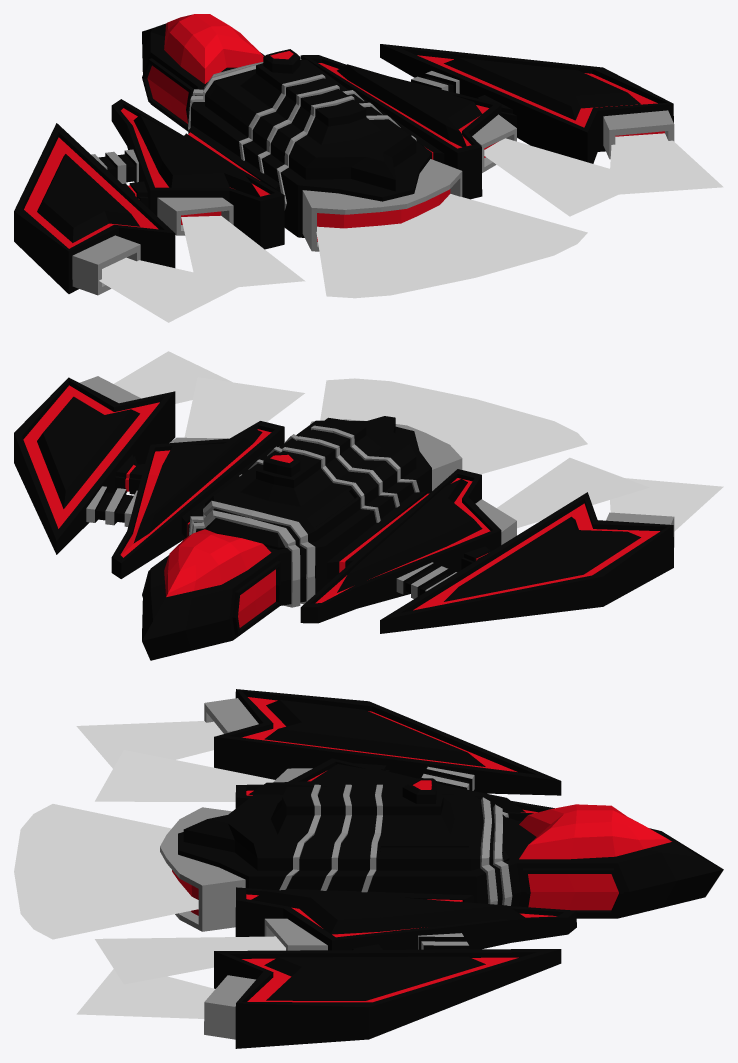
File: ship.fbx
The picture shows the model from 3 angles, top to bottom: view 1: azimuth 30°, elevation 25°; view 2: azimuth 150°, elevation 25°; view 3: azimuth 270°, elevation 25°; orthographic projection. The views are drawn at different scales.
Visible parts, largest first — view 1: Ship; view 2: Ship; view 3: Ship.
Boxes of the visible parts, x1,y1,x2,y2 form: Ship: [14, 14, 723, 322]; Ship: [14, 351, 723, 660]; Ship: [14, 689, 723, 1048].
Size of the model in its own units: 147148 by 25408 by 140522.
